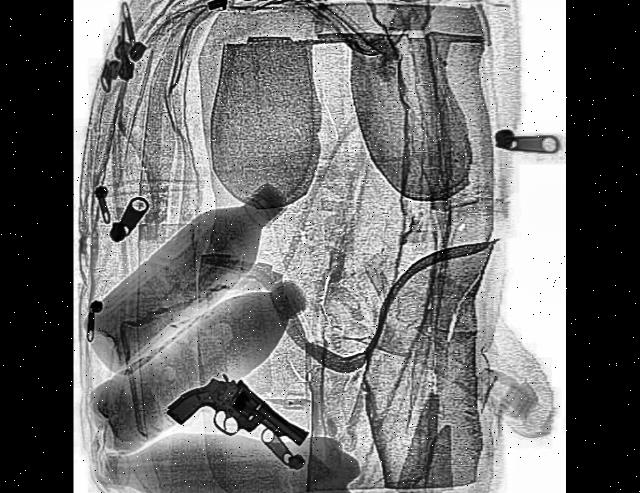Gun: (164, 354, 314, 482)
